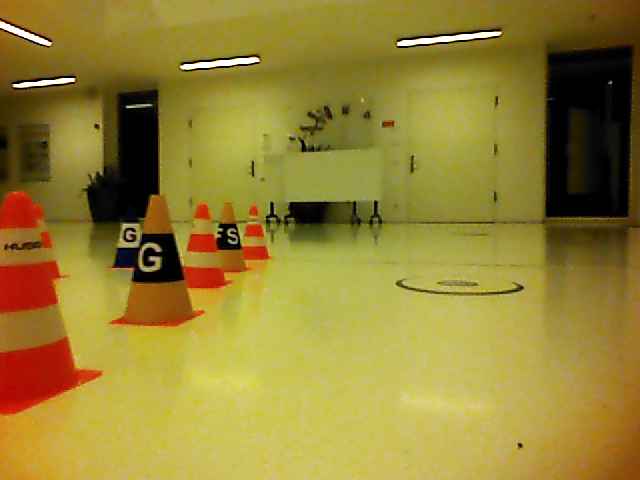orangeconesmall: (1, 190, 78, 401), (184, 203, 223, 285), (243, 204, 270, 259)
yellowcone: (128, 193, 193, 322), (217, 202, 245, 270)
